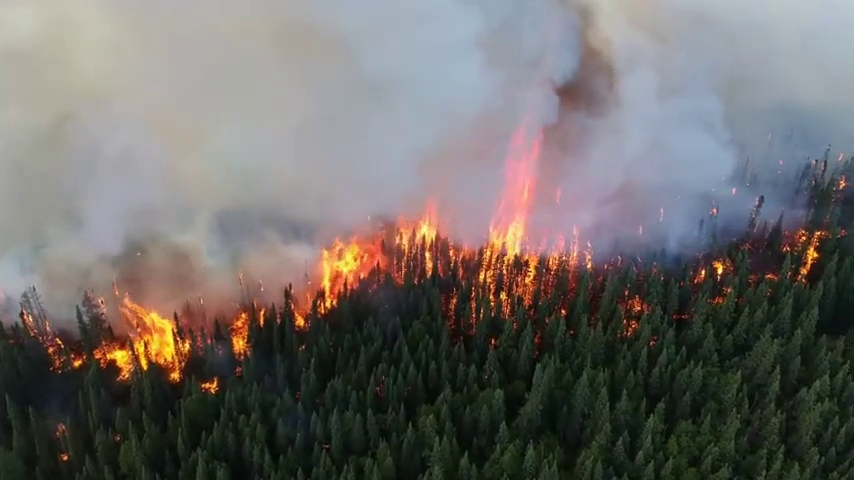forest_fire: (309, 133, 592, 312), (471, 222, 576, 314), (93, 295, 192, 380), (796, 229, 827, 281), (228, 307, 252, 358), (697, 260, 728, 280), (331, 267, 360, 287), (200, 378, 218, 392), (293, 312, 308, 328)
